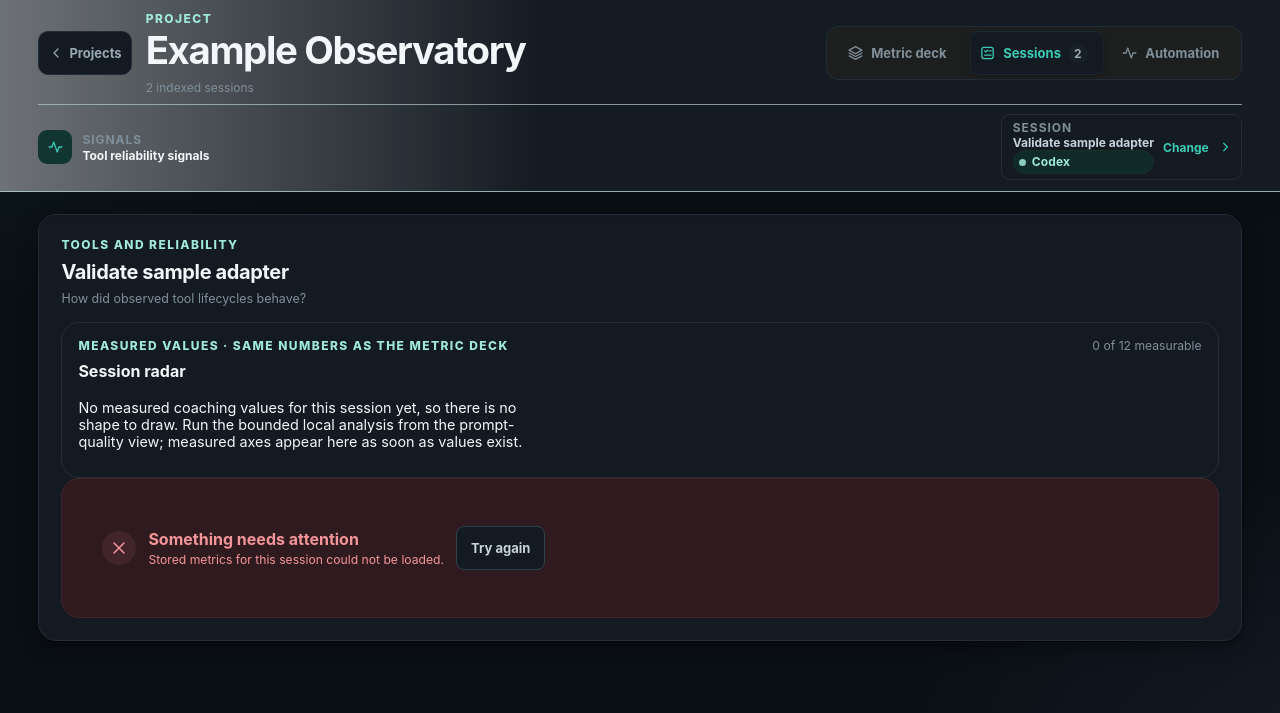
Test: ProjectWorkspace › keeps a failed stored-metric read content-free and retries the same session
Expected: the text "Stored metrics for this session could not be loaded." is shown, [148,552,444,567]
Step 1. Click the button "Try again" → (501, 548), box [456,526,545,570]
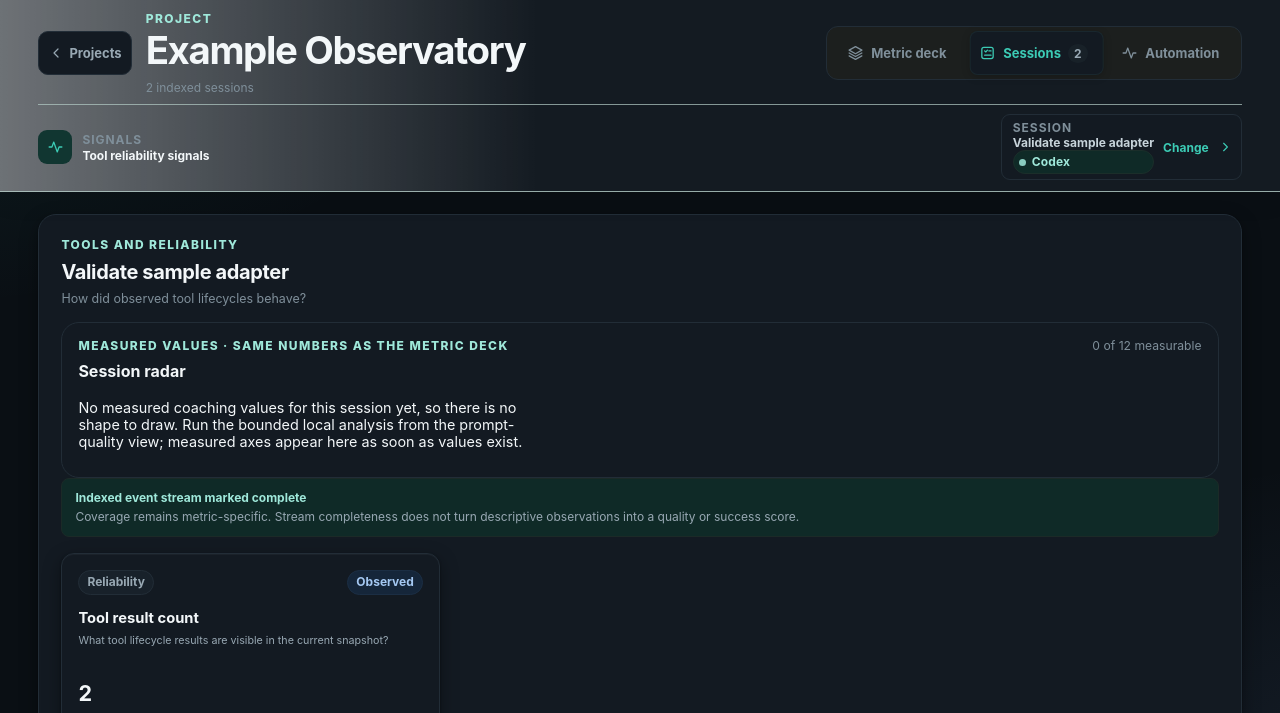
Expected: the heading "Tool result count" is shown, [78,608,199,626]
Expected: the text "Stored metrics for this session could not be loaded." is gone
